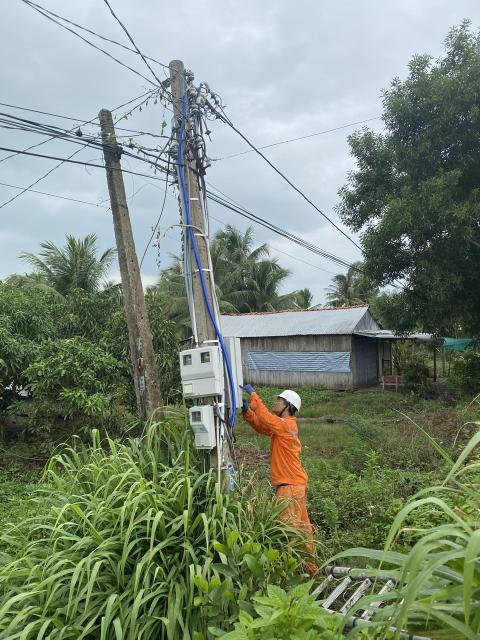gloves: (237, 378, 258, 394), (238, 394, 252, 415)
helmet: (278, 385, 303, 416)
